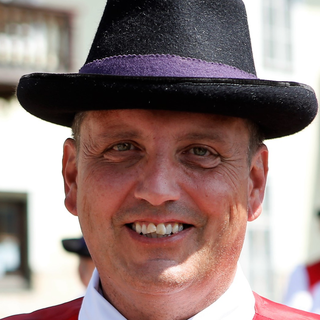eye: (100, 135, 148, 162), (172, 140, 223, 164)
